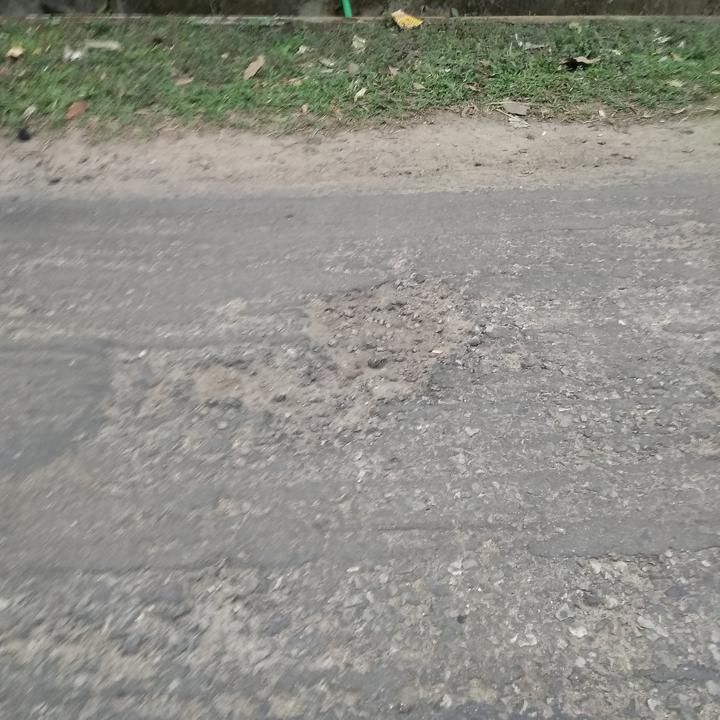pothole: (187, 260, 486, 437)
